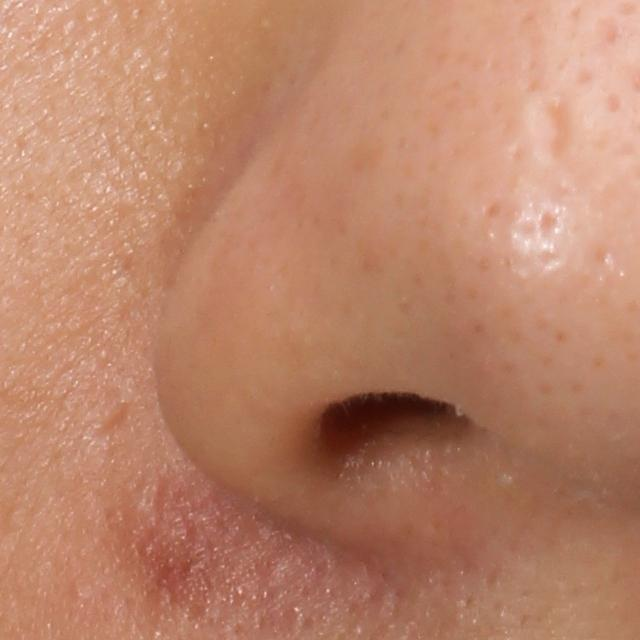atrophic_scar: (532, 95, 574, 166), (80, 404, 136, 445)
